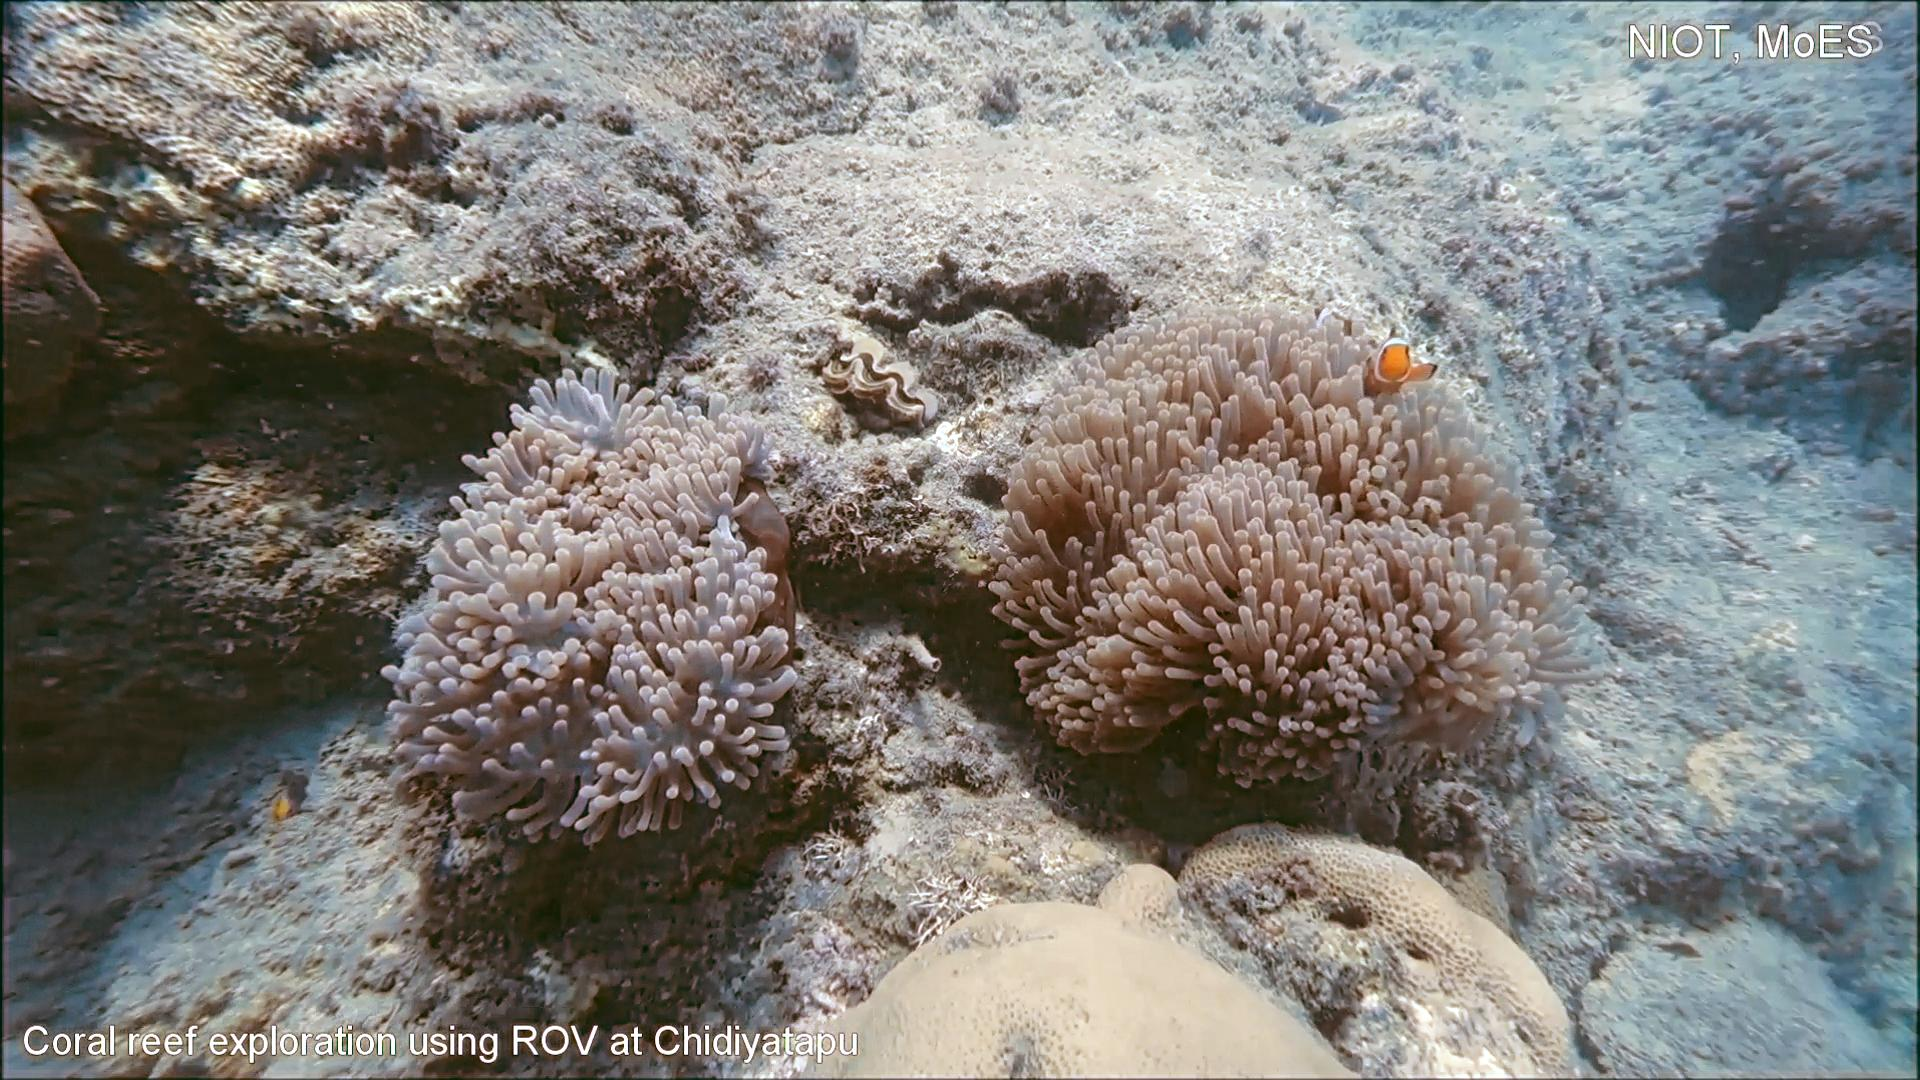Macrodactyla doreensis-Long tentacle Anemone: (984, 286, 1619, 799), (375, 359, 808, 853)
Tridacna Clam: (802, 320, 951, 442)
